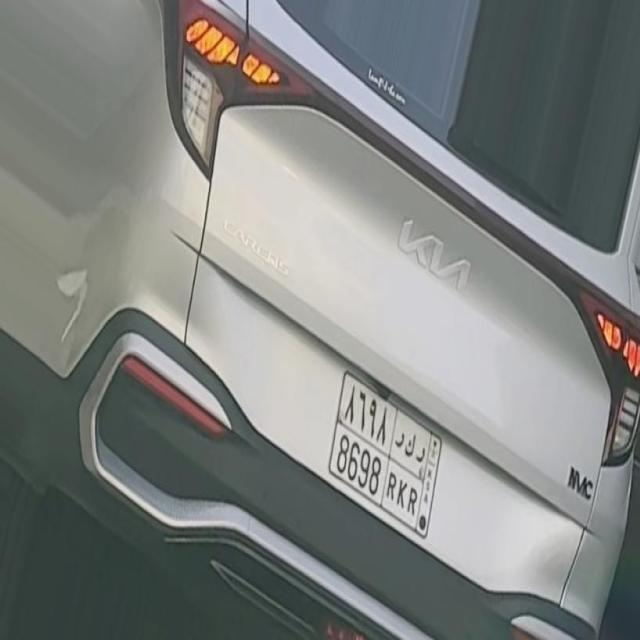Car-plate: (319, 353, 457, 556)
